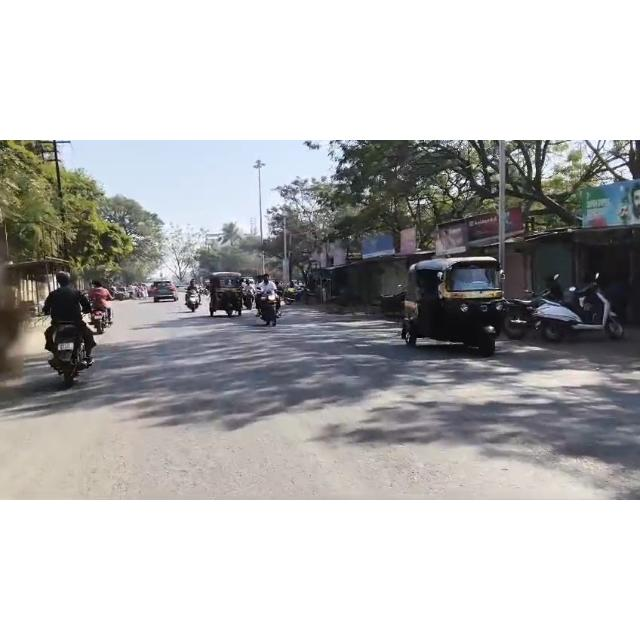auto: (403, 257, 511, 357), (213, 273, 250, 319)
car: (147, 280, 181, 304)
